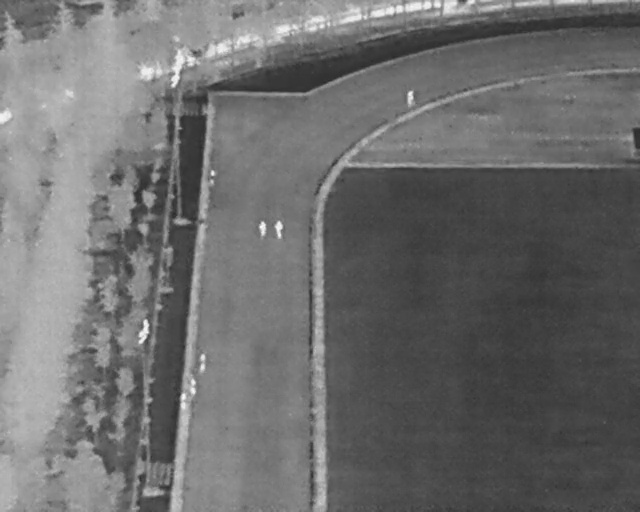Person: (274, 219, 284, 240), (258, 220, 267, 239), (406, 89, 415, 108), (189, 378, 197, 397), (199, 353, 206, 374), (180, 391, 187, 410), (209, 168, 216, 186)
